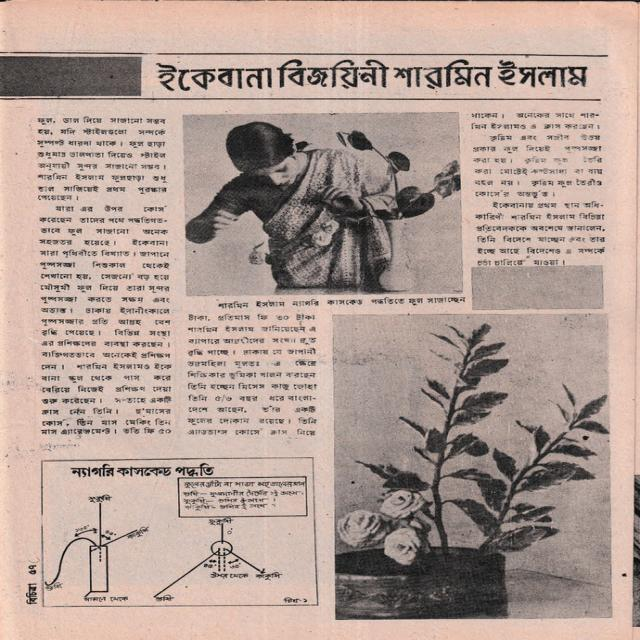caption: (219, 295, 465, 310)
image: (336, 315, 610, 619), (185, 114, 462, 295), (42, 458, 317, 606)
page number: (27, 564, 37, 575)
paragraph: (37, 204, 176, 436), (186, 312, 321, 437), (34, 116, 171, 202), (471, 200, 608, 267), (471, 132, 605, 200), (467, 111, 603, 132)
text: (25, 582, 39, 605)
title: (156, 59, 588, 92)
